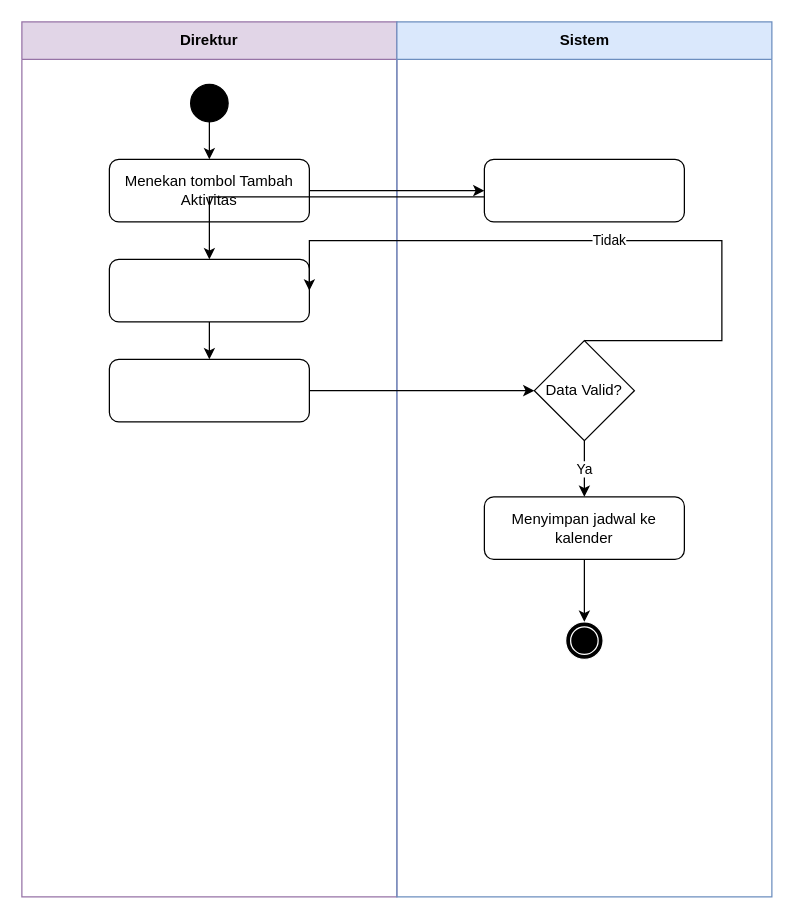
The diagram is 794 pixels wide and 919 high, and some of its shapes have lost their labels. Here are the shapes that lost their labels. From the top down, the centre of each, then its label:
At (583,190): "Menampilkan form jadwal".
At (208,290): "Menentukan tipe, waktu, dan peserta".
At (208,390): "Menekan tombol Simpan".
